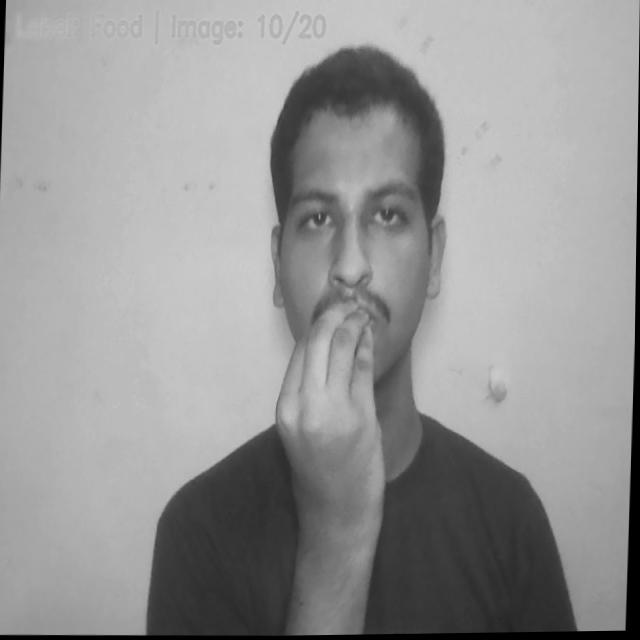Food: (269, 302, 394, 600)
